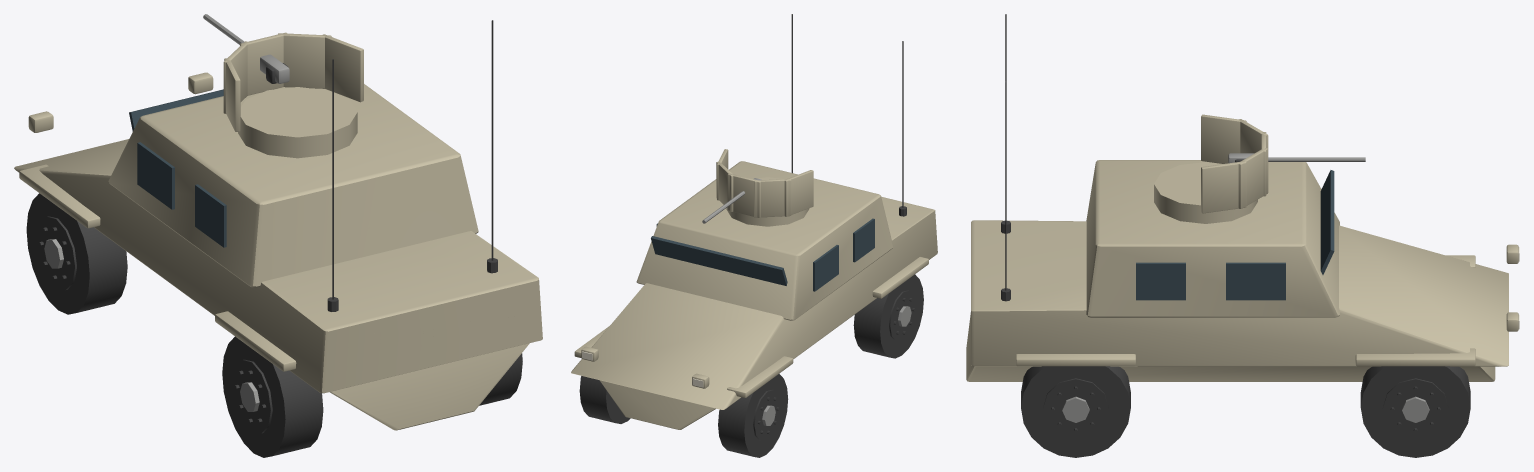
The model's file is usa_lv_jltv_cca.glb.
3 views of the same model, side by side, from view 1: azimuth 30°, elevation 25°; view 2: azimuth 150°, elevation 25°; view 3: azimuth 270°, elevation 25° (orthographic). The views are drawn at different scales.
Visible parts, largest first — view 1: body, turret, wheel_0, wheel_2, barrel, wheel_3; view 2: body, turret, wheel_0, wheel_2, wheel_1; view 3: body, wheel_1, wheel_3, turret, barrel.
Boxes of the visible parts, x1,y1,x2,y2 form: body: [14, 20, 542, 430]; turret: [223, 32, 363, 158]; wheel_0: [26, 193, 127, 314]; wheel_2: [222, 336, 323, 457]; barrel: [203, 14, 289, 83]; wheel_3: [479, 353, 522, 405]; body: [571, 14, 937, 429]; turret: [716, 149, 813, 226]; wheel_0: [718, 374, 788, 457]; wheel_2: [853, 274, 923, 358]; wheel_1: [579, 376, 630, 423]; body: [966, 14, 1519, 381]; wheel_1: [1360, 366, 1470, 457]; wheel_3: [1021, 366, 1130, 457]; turret: [1154, 114, 1268, 223]; barrel: [1228, 153, 1365, 163].
Size of the model in its own units: 2.5 by 3.97 by 5.54.
